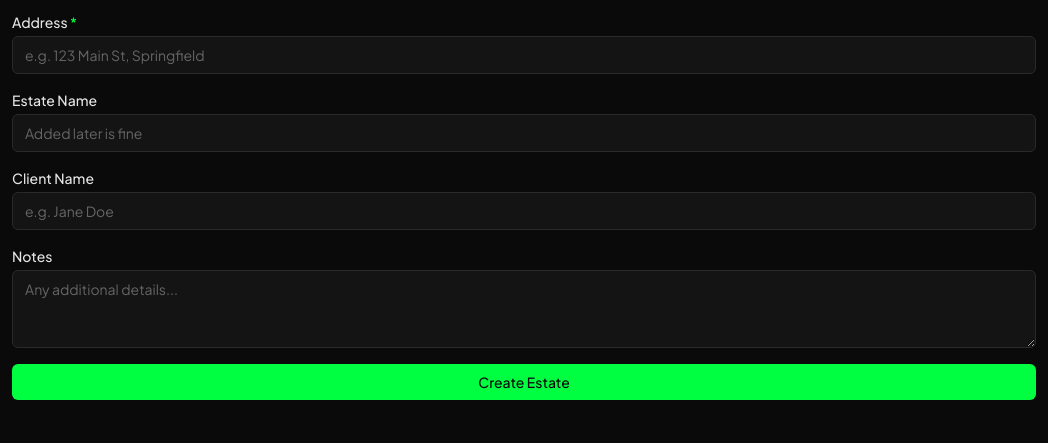
Test: CreateEstateForm › shows validation error on empty submit (address required)
Click the button "Create Estate" at (524, 382), box [12,364,1036,400]
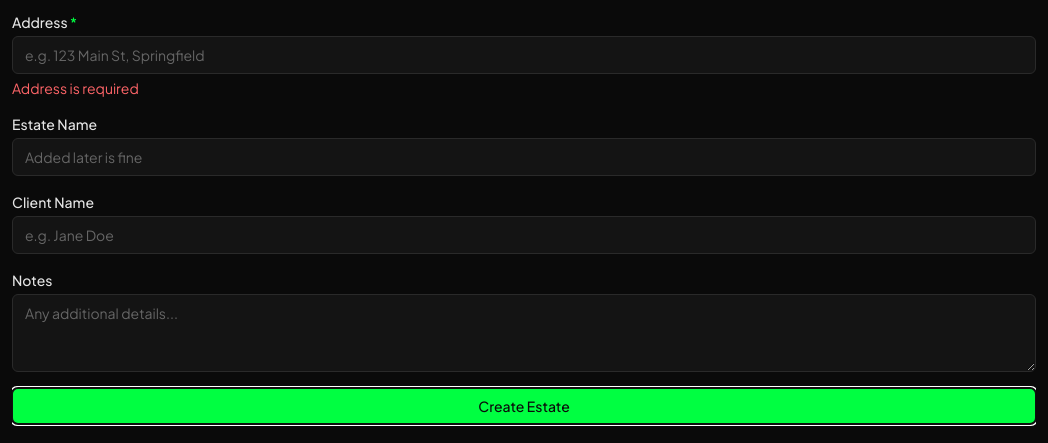
Expected: the text "Address is required" is shown, [12,79,139,97]
